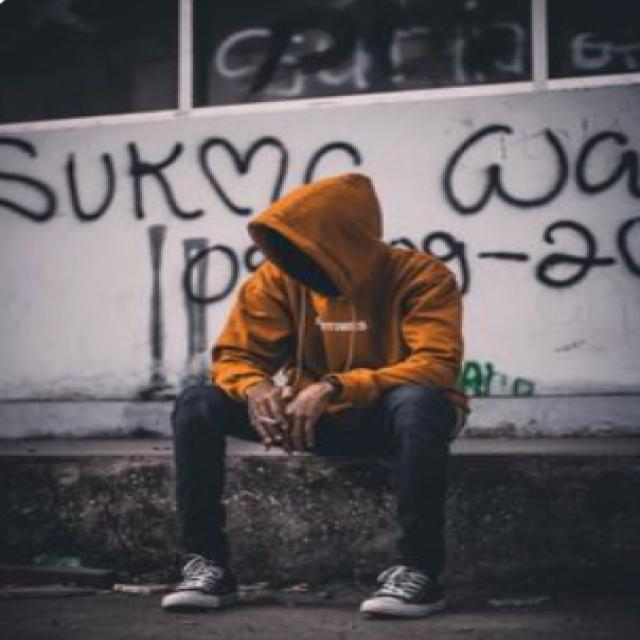4_capucha: (245, 172, 388, 306)
